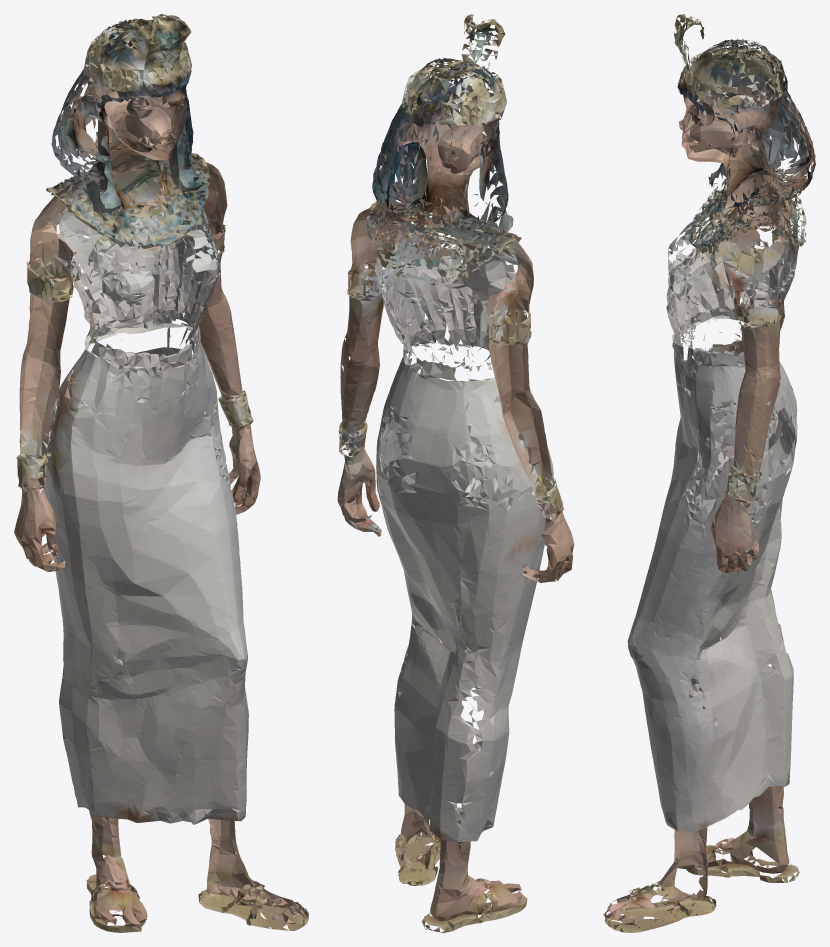
The model's file is cleopatra.glb.
3 views of the same model, side by side, from view 1: azimuth 30°, elevation 25°; view 2: azimuth 150°, elevation 25°; view 3: azimuth 270°, elevation 25° (orthographic). The views are drawn at different scales.
Size of the model in its own units: 0.4424 by 1.62 by 0.3625.
